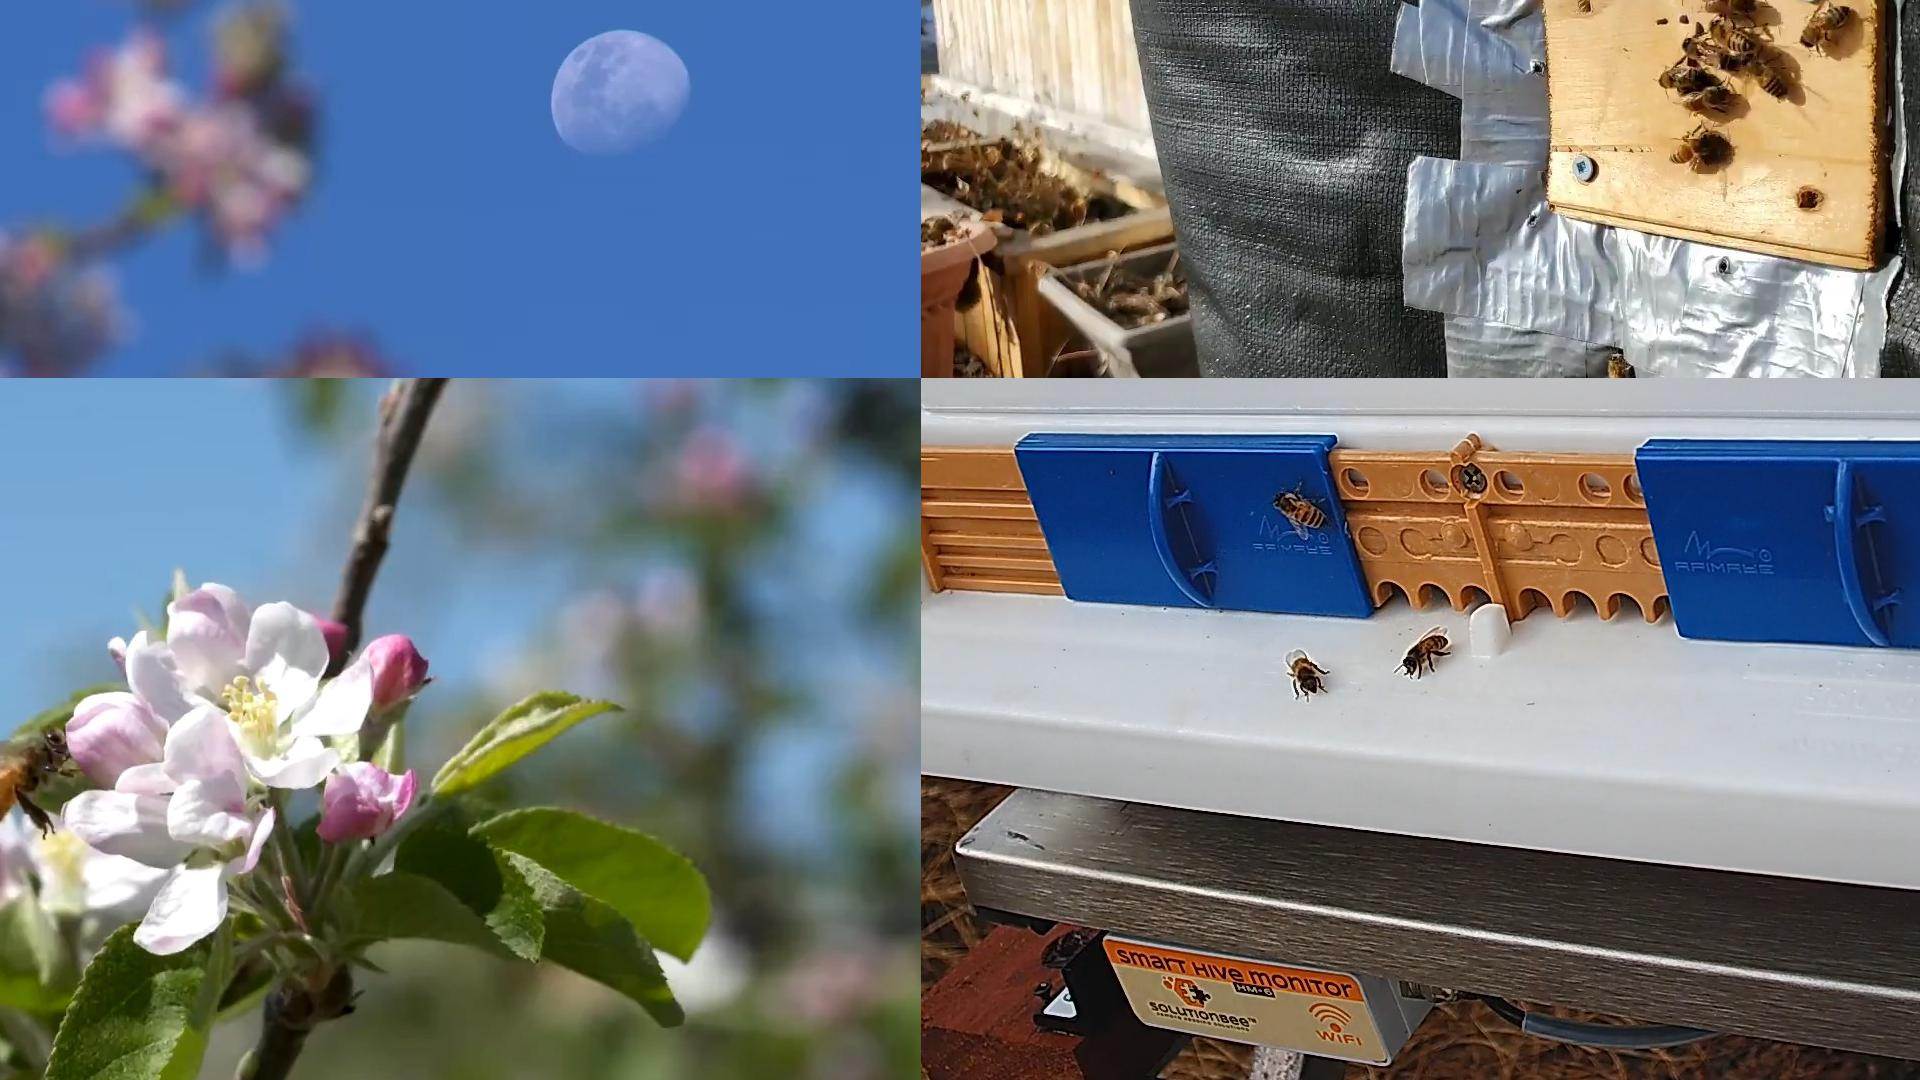bee: (0, 729, 69, 832), (1800, 5, 1851, 46), (1273, 489, 1327, 527), (1403, 636, 1448, 673), (1743, 58, 1784, 98), (1681, 38, 1731, 69), (1709, 18, 1754, 50), (1668, 135, 1708, 162), (1684, 88, 1731, 111), (1658, 69, 1705, 88), (1291, 657, 1317, 692), (1705, 0, 1755, 15), (1606, 355, 1634, 377)
